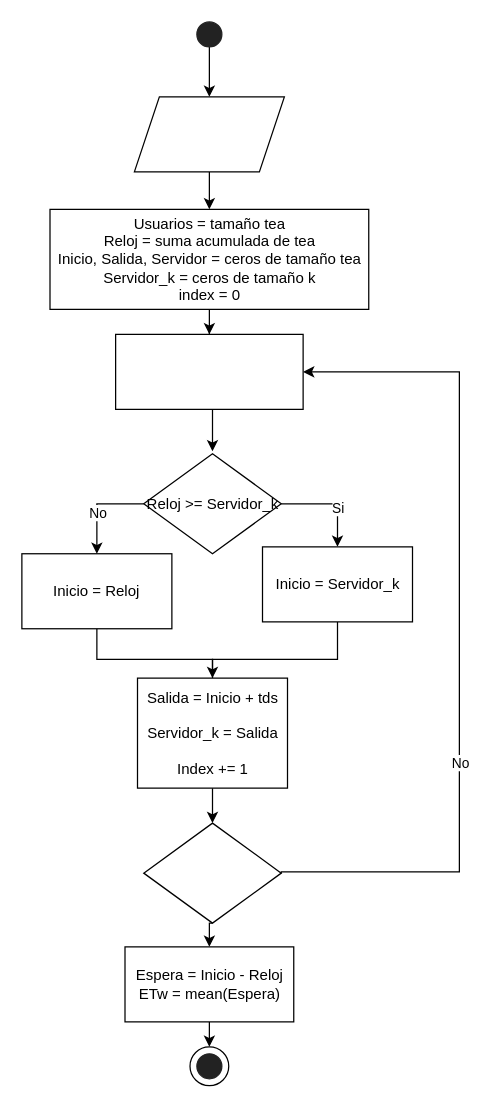
This 491x1108 diagram has some shape labels left out. Each missing label, with the centre of its shape:
"index >= Usuarios" goes at point 211,872.
"Servidor = min(Servidor_k)" goes at point 208,371.
"tea, tds, k" goes at point 208,134.
